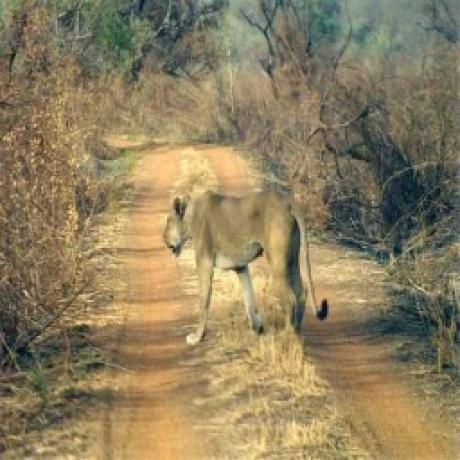Lion: (163, 190, 333, 345)
